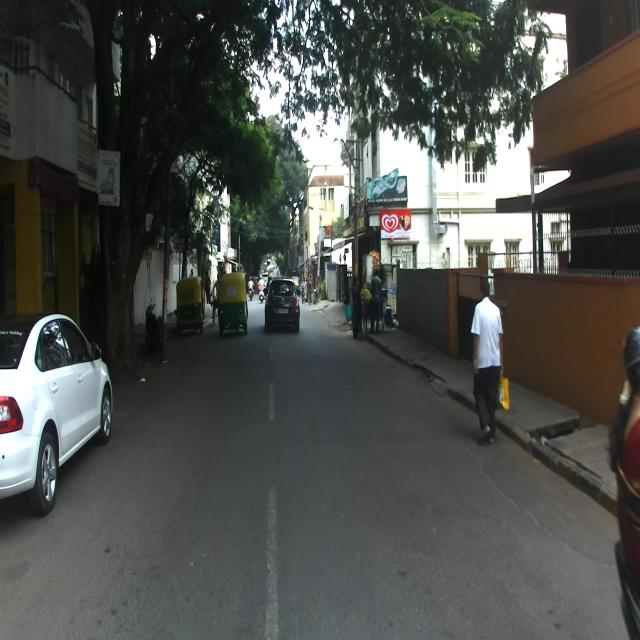auto ahead at: (213, 269, 250, 340)
car ahead at: (0, 310, 122, 521), (260, 276, 305, 338)
person ahead at: (468, 281, 511, 434)
tree ahead at: (100, 48, 145, 372)
